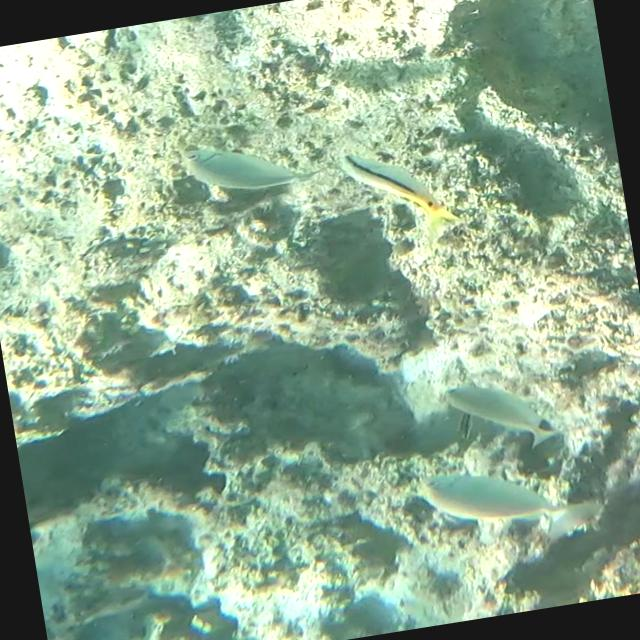Sokar Baligi: (393, 436, 614, 572), (422, 356, 574, 467), (168, 115, 332, 208)
